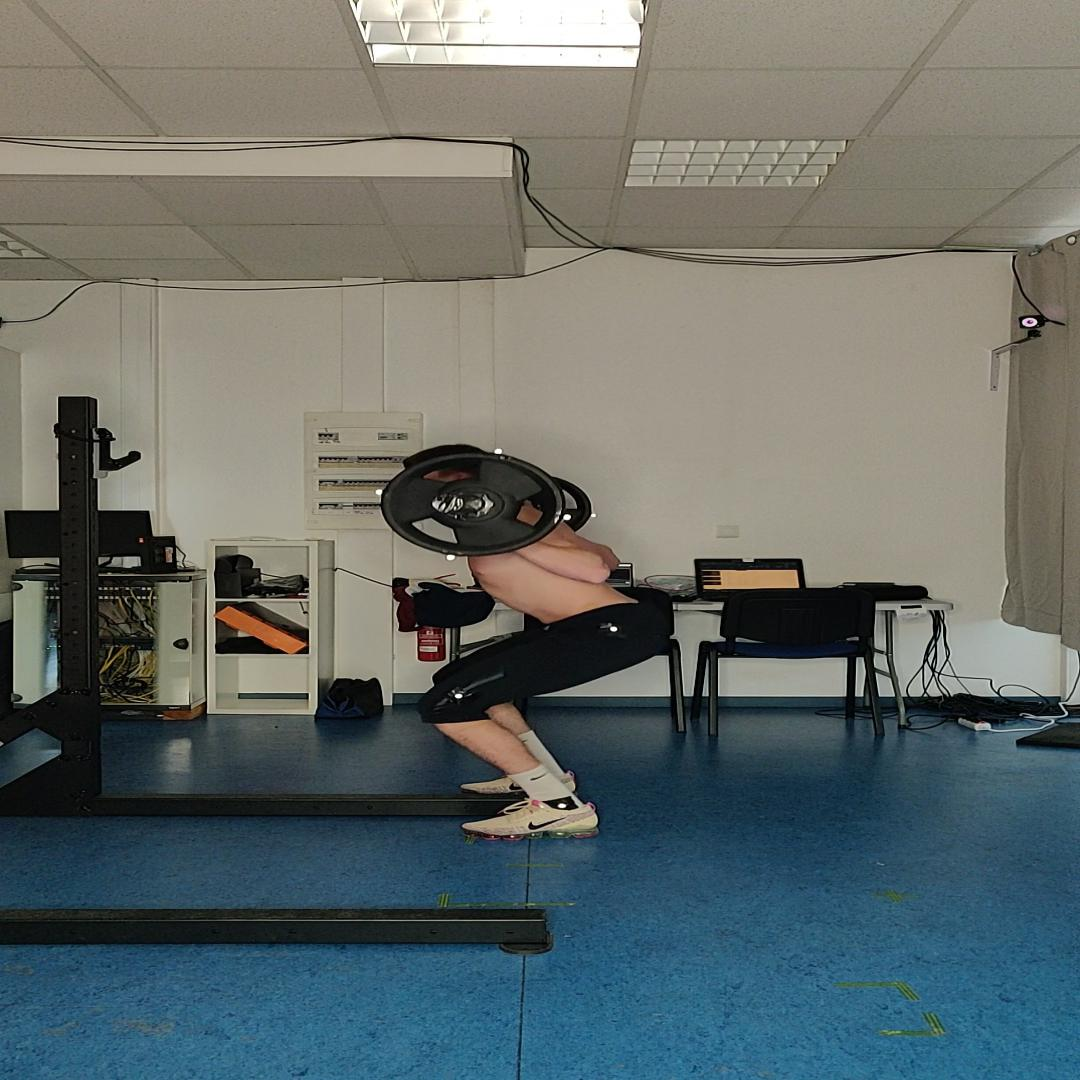Bar: (431, 493, 464, 513)
Barbell: (381, 452, 566, 556)
